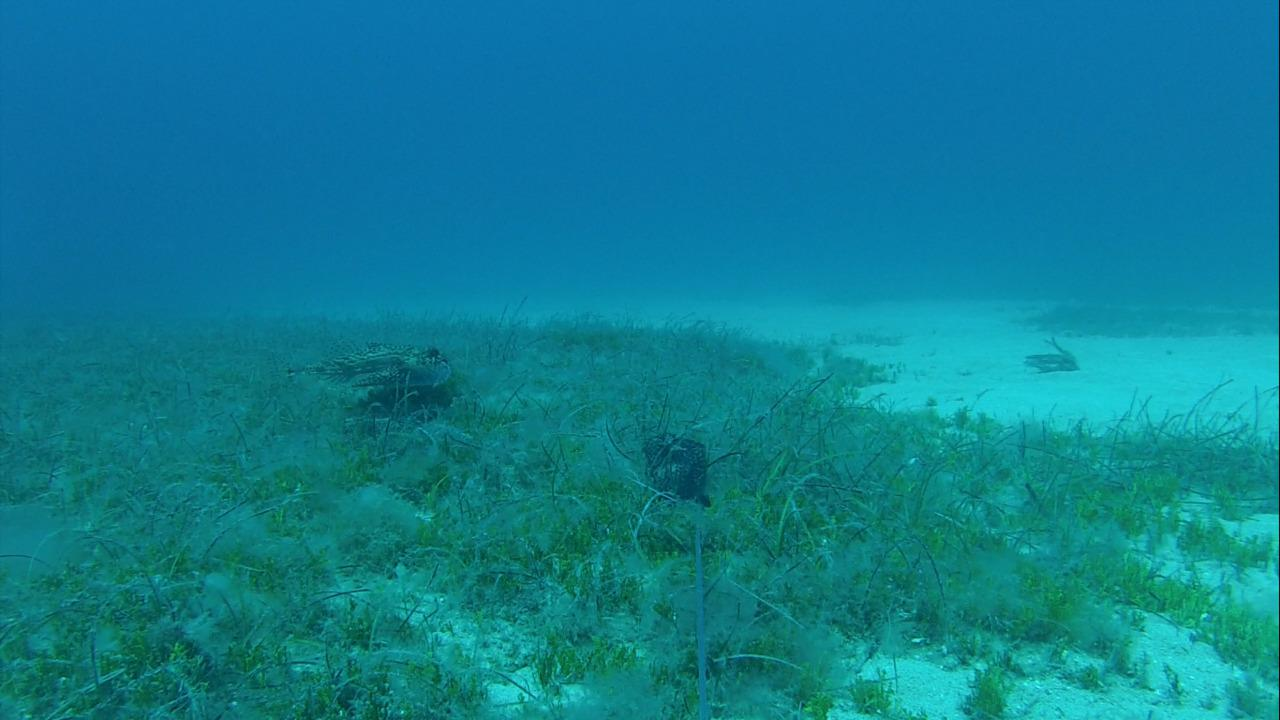dactylopterus: (253, 336, 458, 407)
